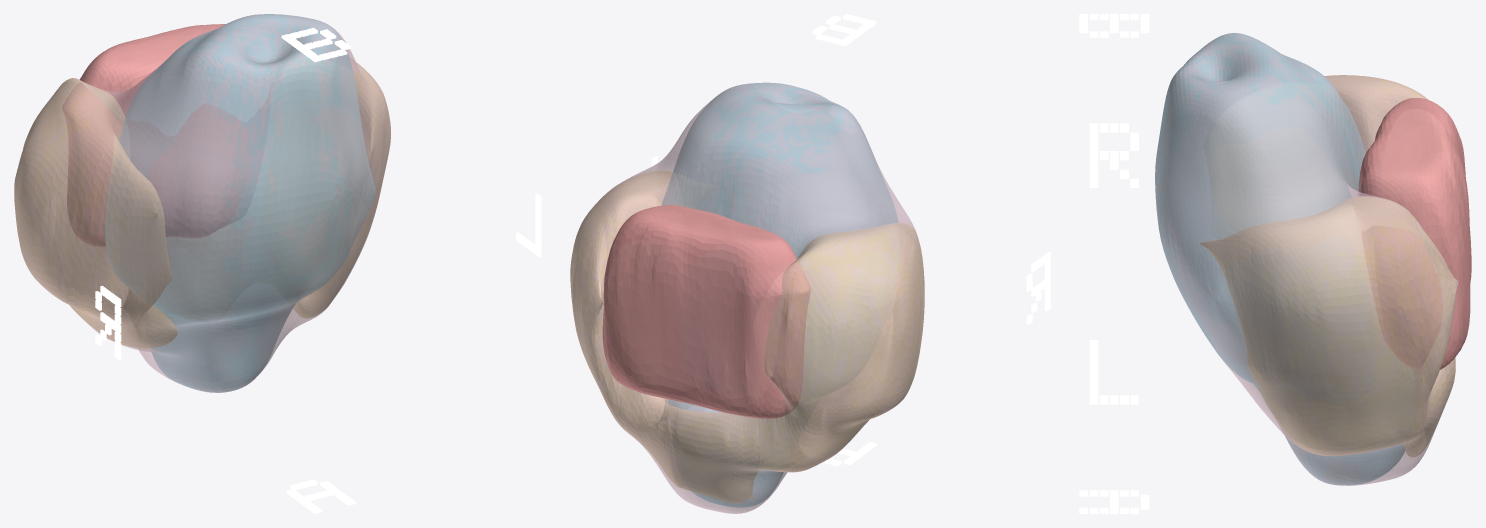
3 renders of one model, left to right at view 1: azimuth 30°, elevation 25°; view 2: azimuth 150°, elevation 25°; view 3: azimuth 270°, elevation 25°, orthographic. The views are drawn at different scales.
Visible parts, largest first — view 1: prostate_gland, transition_zone, peripheral_zone, lesion_01, pv_ar_marker_B, pv_ar_marker_R, pv_ar_marker_A, pv_ar_marker_L; view 2: prostate_gland, peripheral_zone, lesion_01, transition_zone, pv_ar_marker_B, pv_ar_marker_R; view 3: prostate_gland, peripheral_zone, transition_zone, lesion_01, pv_ar_marker_R, pv_ar_marker_B, pv_ar_marker_A, pv_ar_marker_L.
Boxes of the visible parts, x1=… form: prostate_gland: x1=14, y1=14, x2=390, y2=392; transition_zone: x1=105, y1=14, x2=375, y2=392; peripheral_zone: x1=14, y1=62, x2=390, y2=347; lesion_01: x1=62, y1=24, x2=270, y2=246; pv_ar_marker_B: x1=281, y1=27, x2=350, y2=62; pv_ar_marker_R: x1=95, y1=285, x2=121, y2=359; pv_ar_marker_A: x1=286, y1=479, x2=355, y2=513; pv_ar_marker_L: x1=516, y1=193, x2=541, y2=257; prostate_gland: x1=570, y1=82, x2=924, y2=513; peripheral_zone: x1=570, y1=171, x2=924, y2=502; lesion_01: x1=602, y1=205, x2=810, y2=418; transition_zone: x1=662, y1=83, x2=899, y2=507; pv_ar_marker_B: x1=812, y1=14, x2=876, y2=46; pv_ar_marker_R: x1=1026, y1=252, x2=1050, y2=324; prostate_gland: x1=1155, y1=33, x2=1457, y2=485; peripheral_zone: x1=1200, y1=75, x2=1457, y2=456; transition_zone: x1=1155, y1=33, x2=1404, y2=485; lesion_01: x1=1358, y1=98, x2=1471, y2=370; pv_ar_marker_R: x1=1089, y1=123, x2=1138, y2=187; pv_ar_marker_B: x1=1079, y1=14, x2=1149, y2=37; pv_ar_marker_A: x1=1079, y1=490, x2=1149, y2=513; pv_ar_marker_L: x1=1089, y1=340, x2=1138, y2=404.
Bounding box in the file's own units: 0.0431 × 0.0442 × 0.0328.
